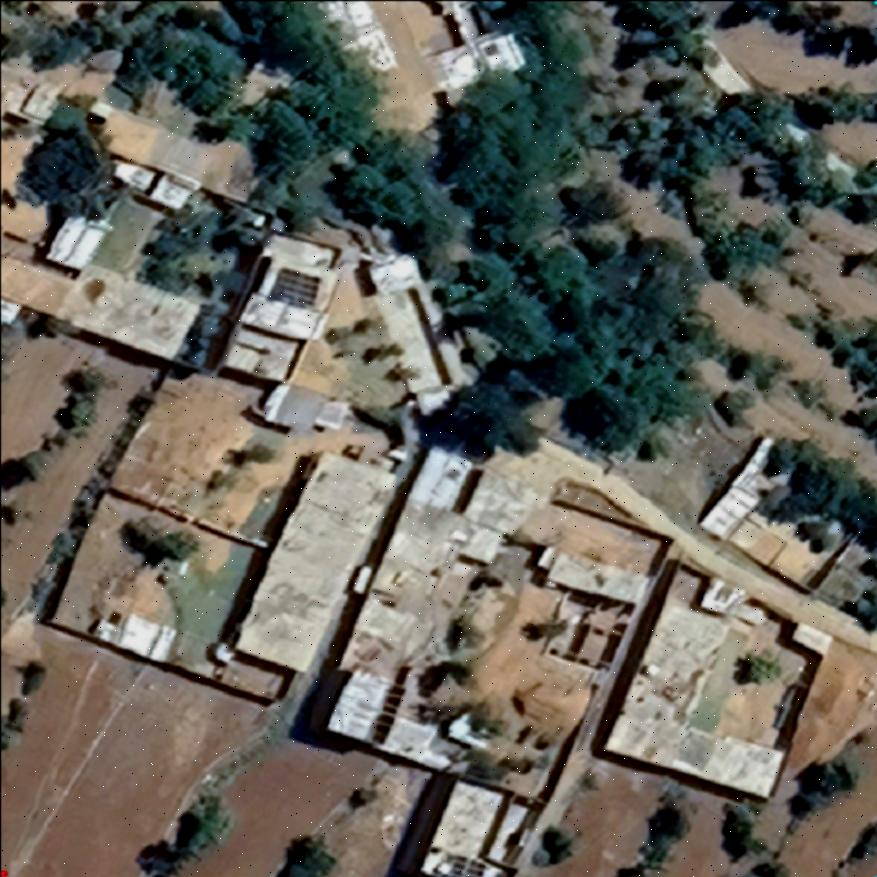Solarpanel: (267, 260, 325, 314)
